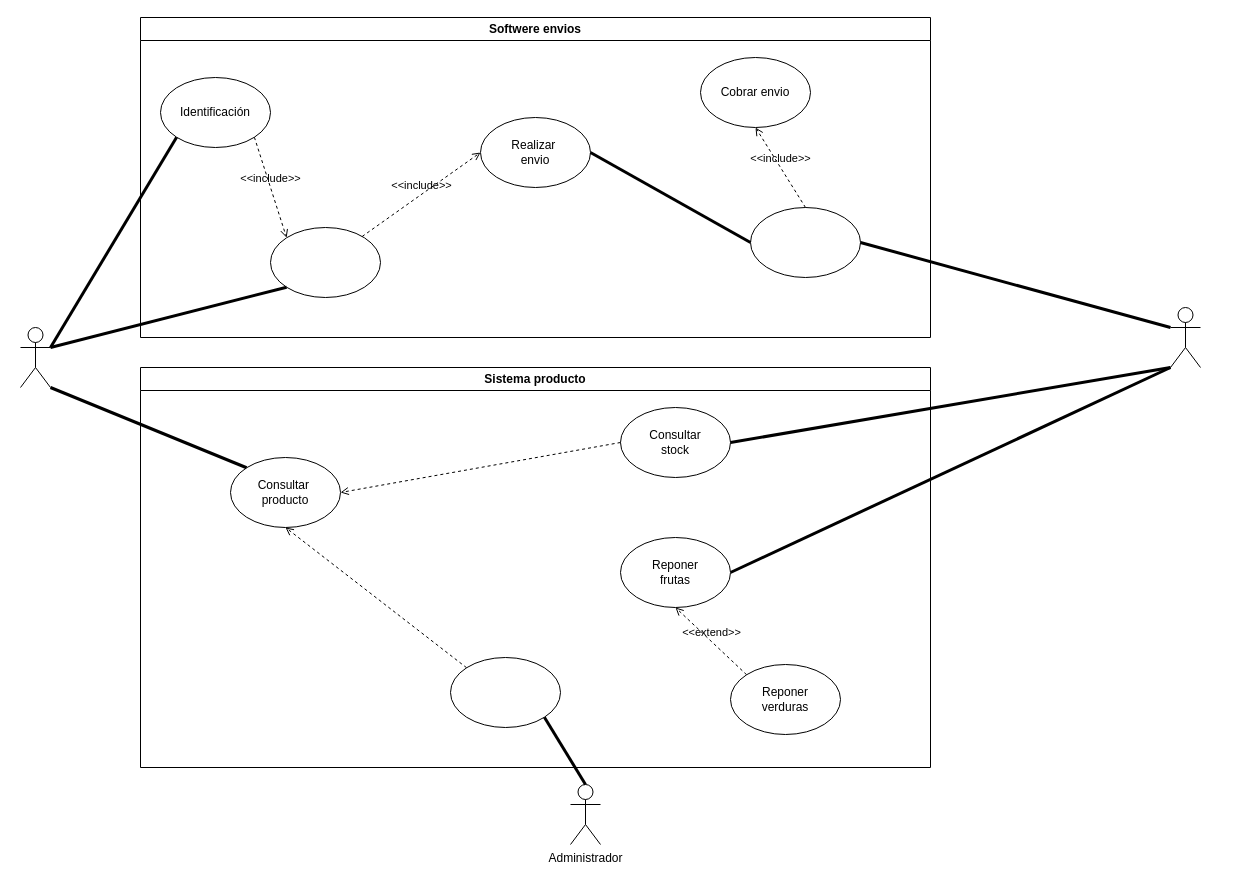
This 1238x883 diagram has some shape labels left out. Here are the shapes that lost their labels. From the top down, the centre of each, then its label:
At point 325,262: "Comprar producto".
At point 805,242: "Registro envio".
At point 35,357: "Cliente".
At point 1185,337: "Transportista".
At point 505,692: "Actualizar precios".
